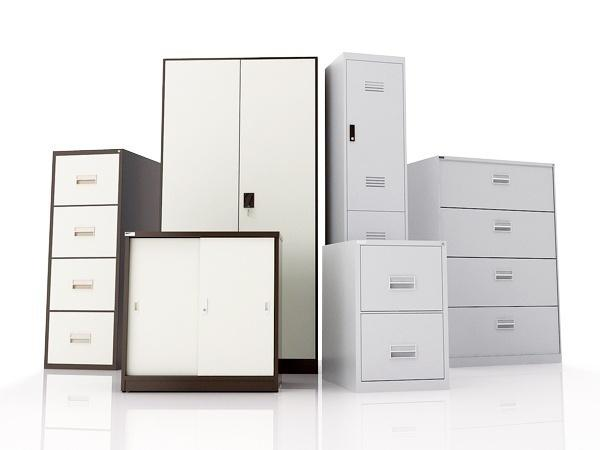cabinet_door: (450, 259, 558, 307), (447, 210, 557, 257), (448, 168, 553, 211), (454, 427, 558, 450)
handle: (44, 370, 116, 382), (490, 174, 512, 187), (246, 191, 255, 210)
